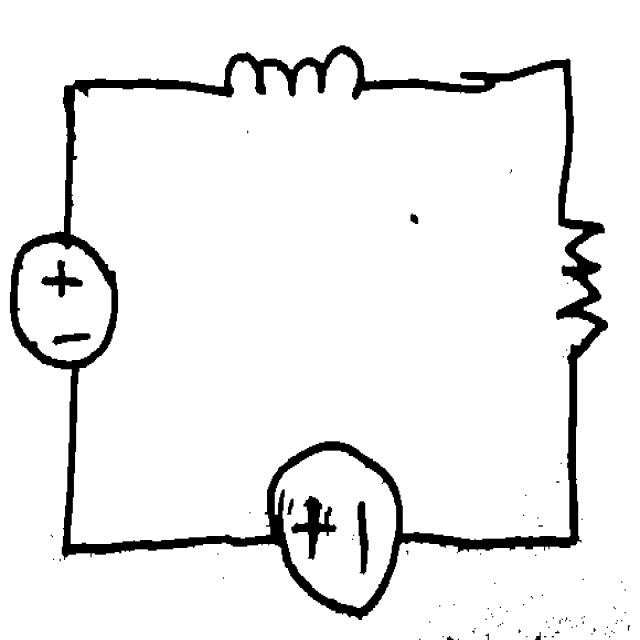dc: (258, 424, 414, 628), (2, 226, 130, 374)
inductor: (203, 35, 372, 122)
resistor: (539, 199, 619, 376)
